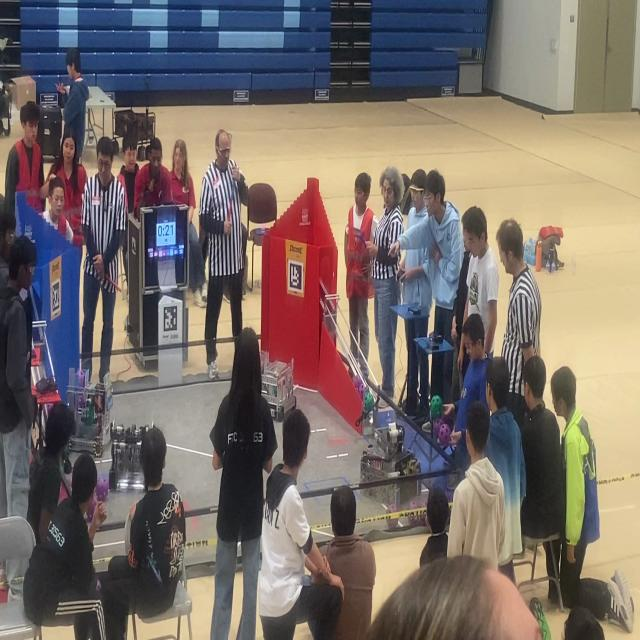artifact_green: (430, 396, 442, 418), (363, 392, 374, 414)
artifact_purple: (438, 422, 451, 447), (96, 476, 108, 501), (87, 494, 98, 520), (354, 377, 366, 399), (433, 418, 444, 437), (360, 382, 367, 399), (409, 515, 419, 526), (388, 518, 398, 528)
